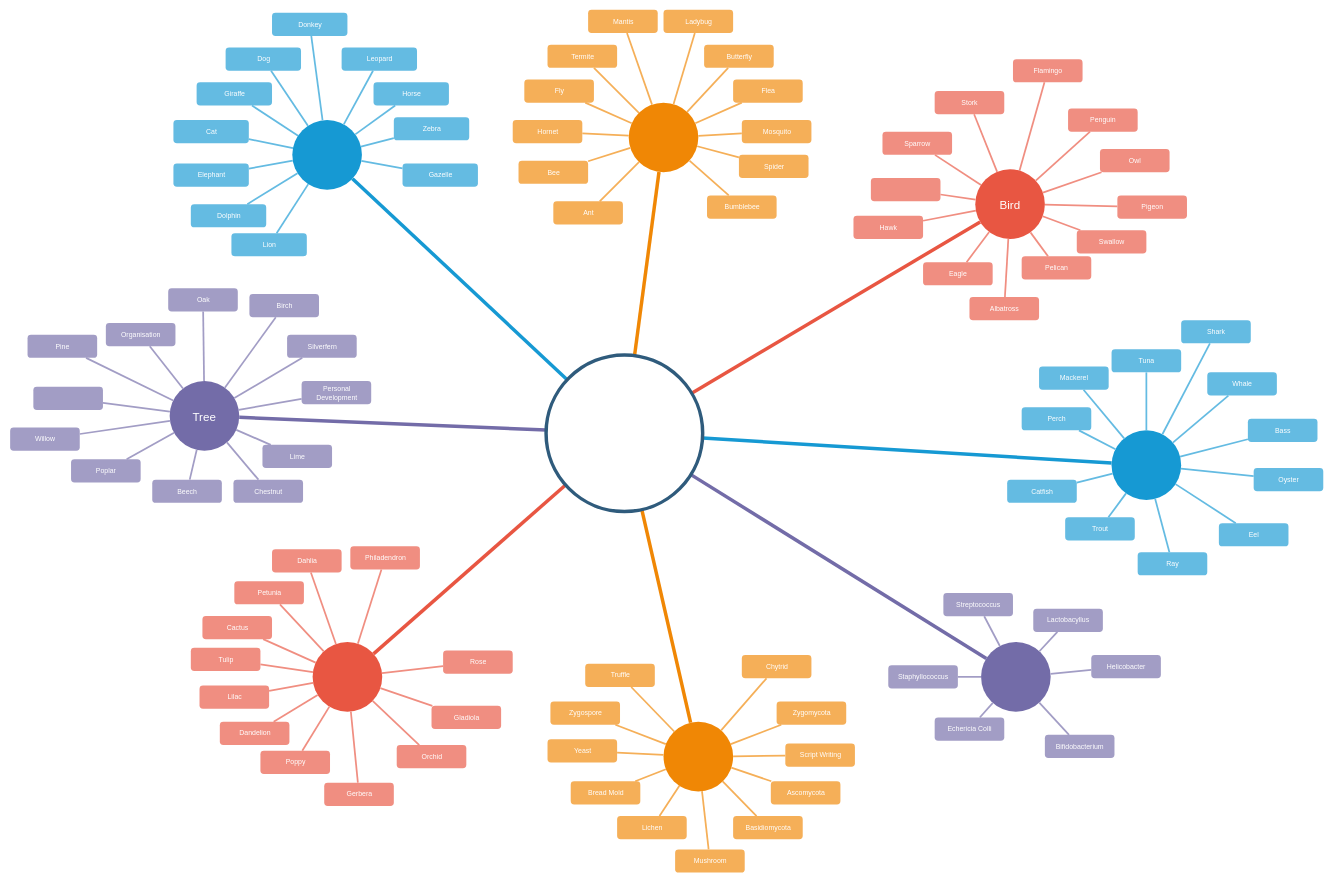
This 1333x883 diagram has some shape labels left out. The shapes that lost their labels are listed below. From the top down, each one's centre as x and y in pixels, then its label:
At [327,154]: "Mammal".
At [663,137]: "Insect".
At [905,189]: "Falcon".
At [68,398]: "Acacia".
At [624,433]: "Learning".
At [1146,465]: "Fish".
At [347,676]: "Flower".
At [1015,676]: "Bacteria".
At [698,756]: "Fungi".
